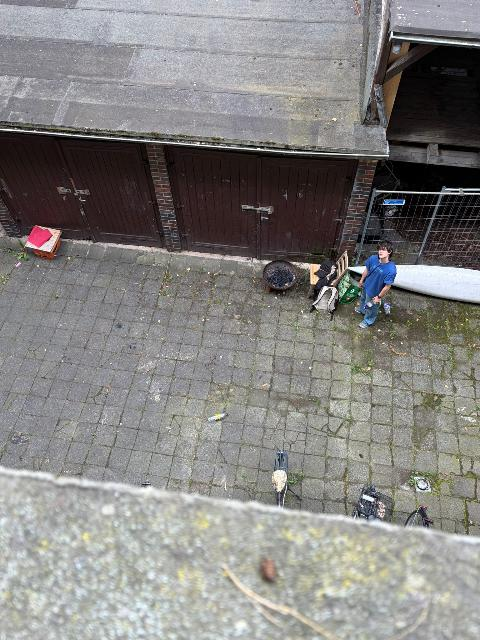glass_bottle: (208, 413, 228, 422), (358, 286, 362, 297)
plastic_bottle: (364, 299, 377, 310), (384, 302, 391, 314)
